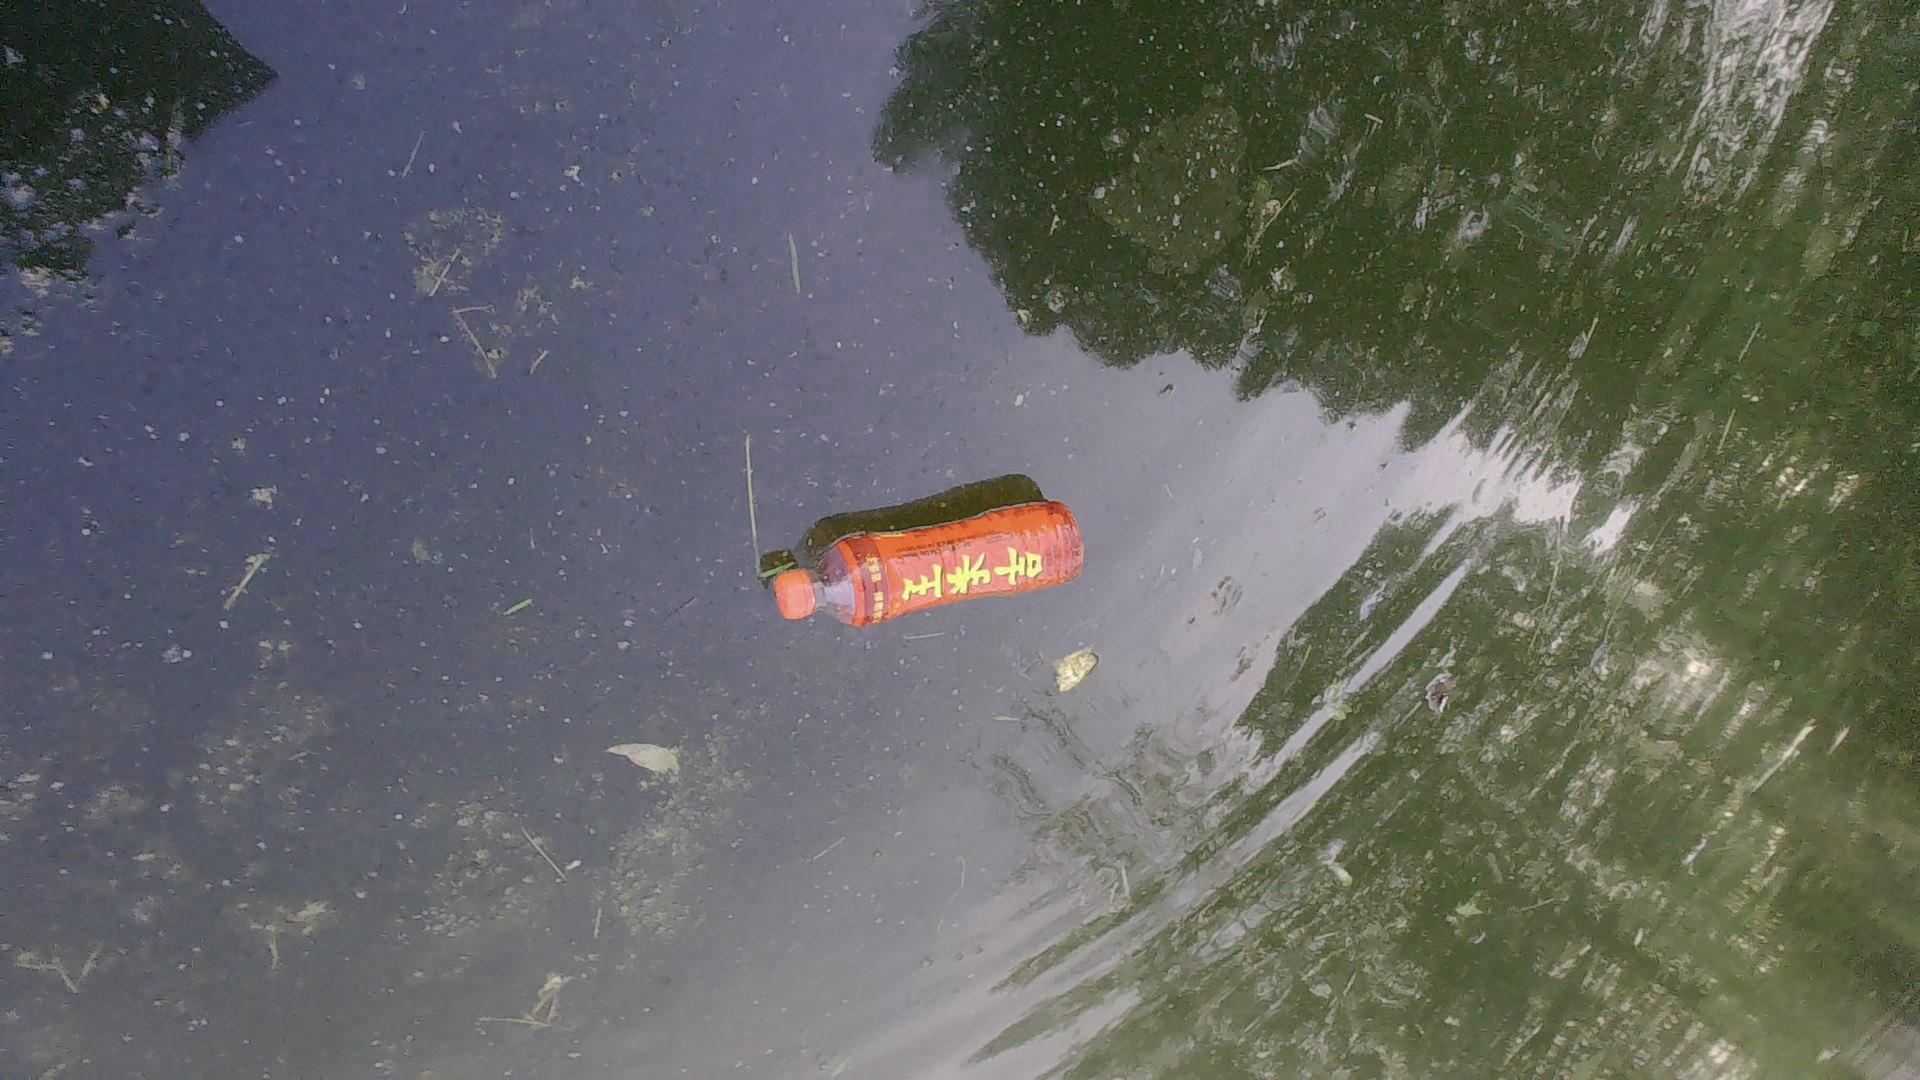Plastic: (762, 495, 1092, 632)
